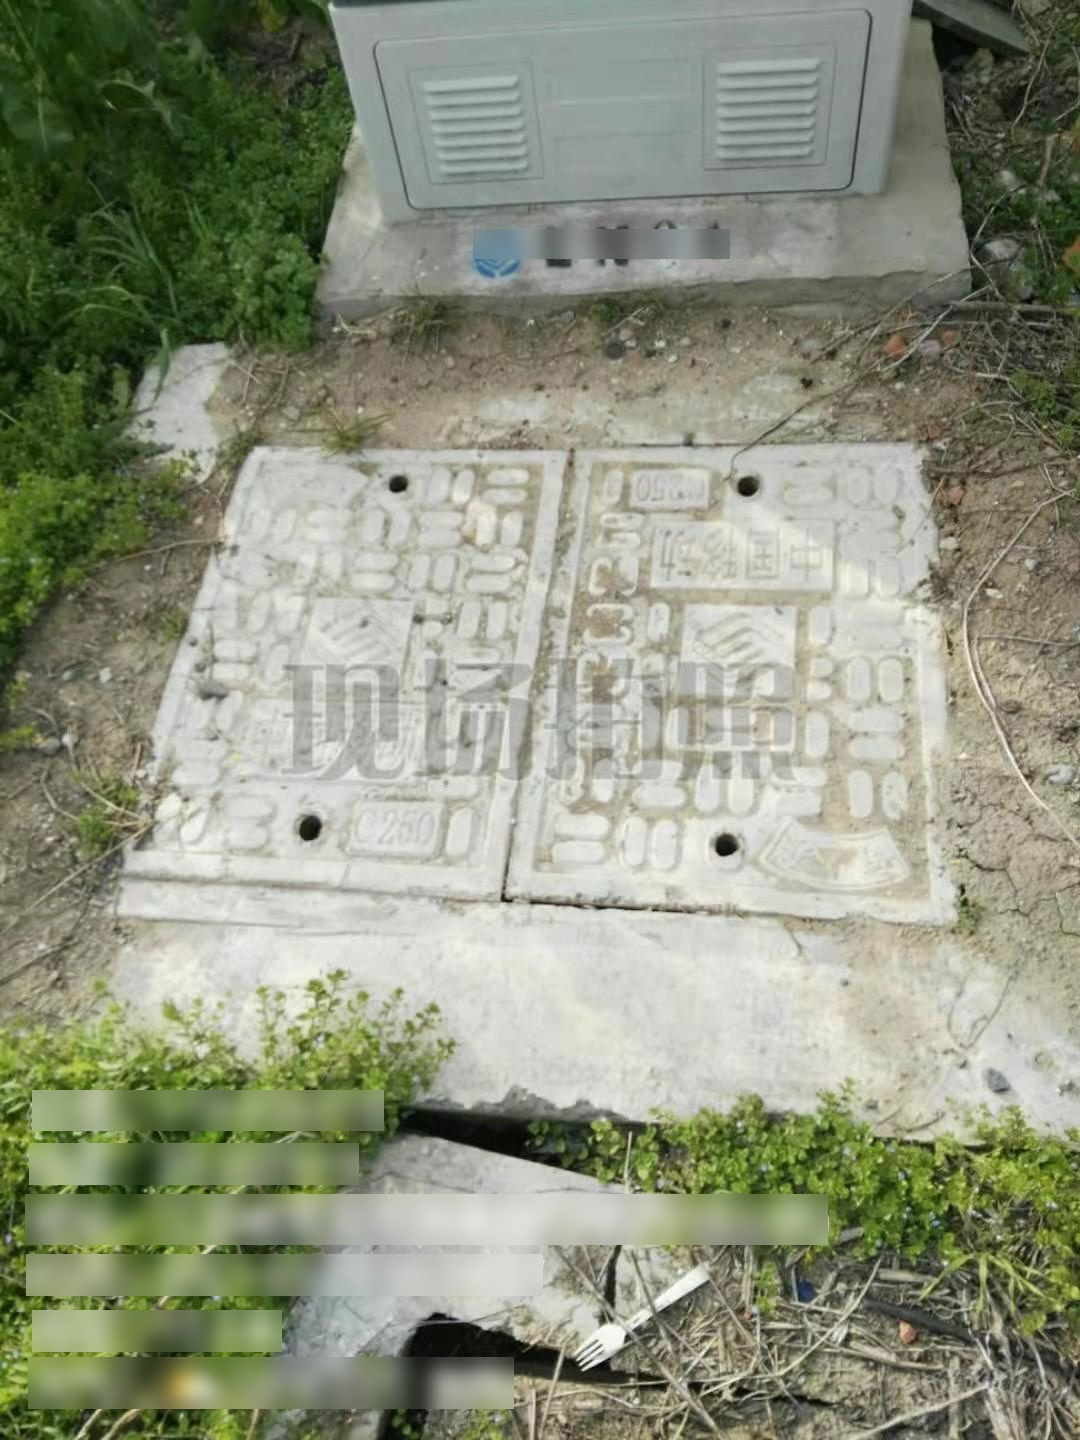good: (108, 440, 960, 940)
